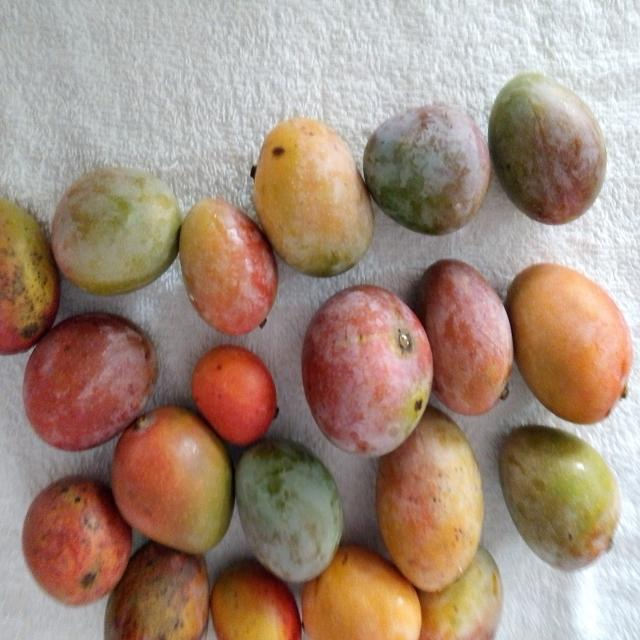mango: (302, 282, 434, 460), (248, 115, 376, 280), (506, 262, 631, 424), (20, 313, 160, 452), (111, 406, 238, 558), (497, 424, 622, 573), (414, 255, 513, 420), (178, 196, 276, 336), (0, 192, 62, 353)
